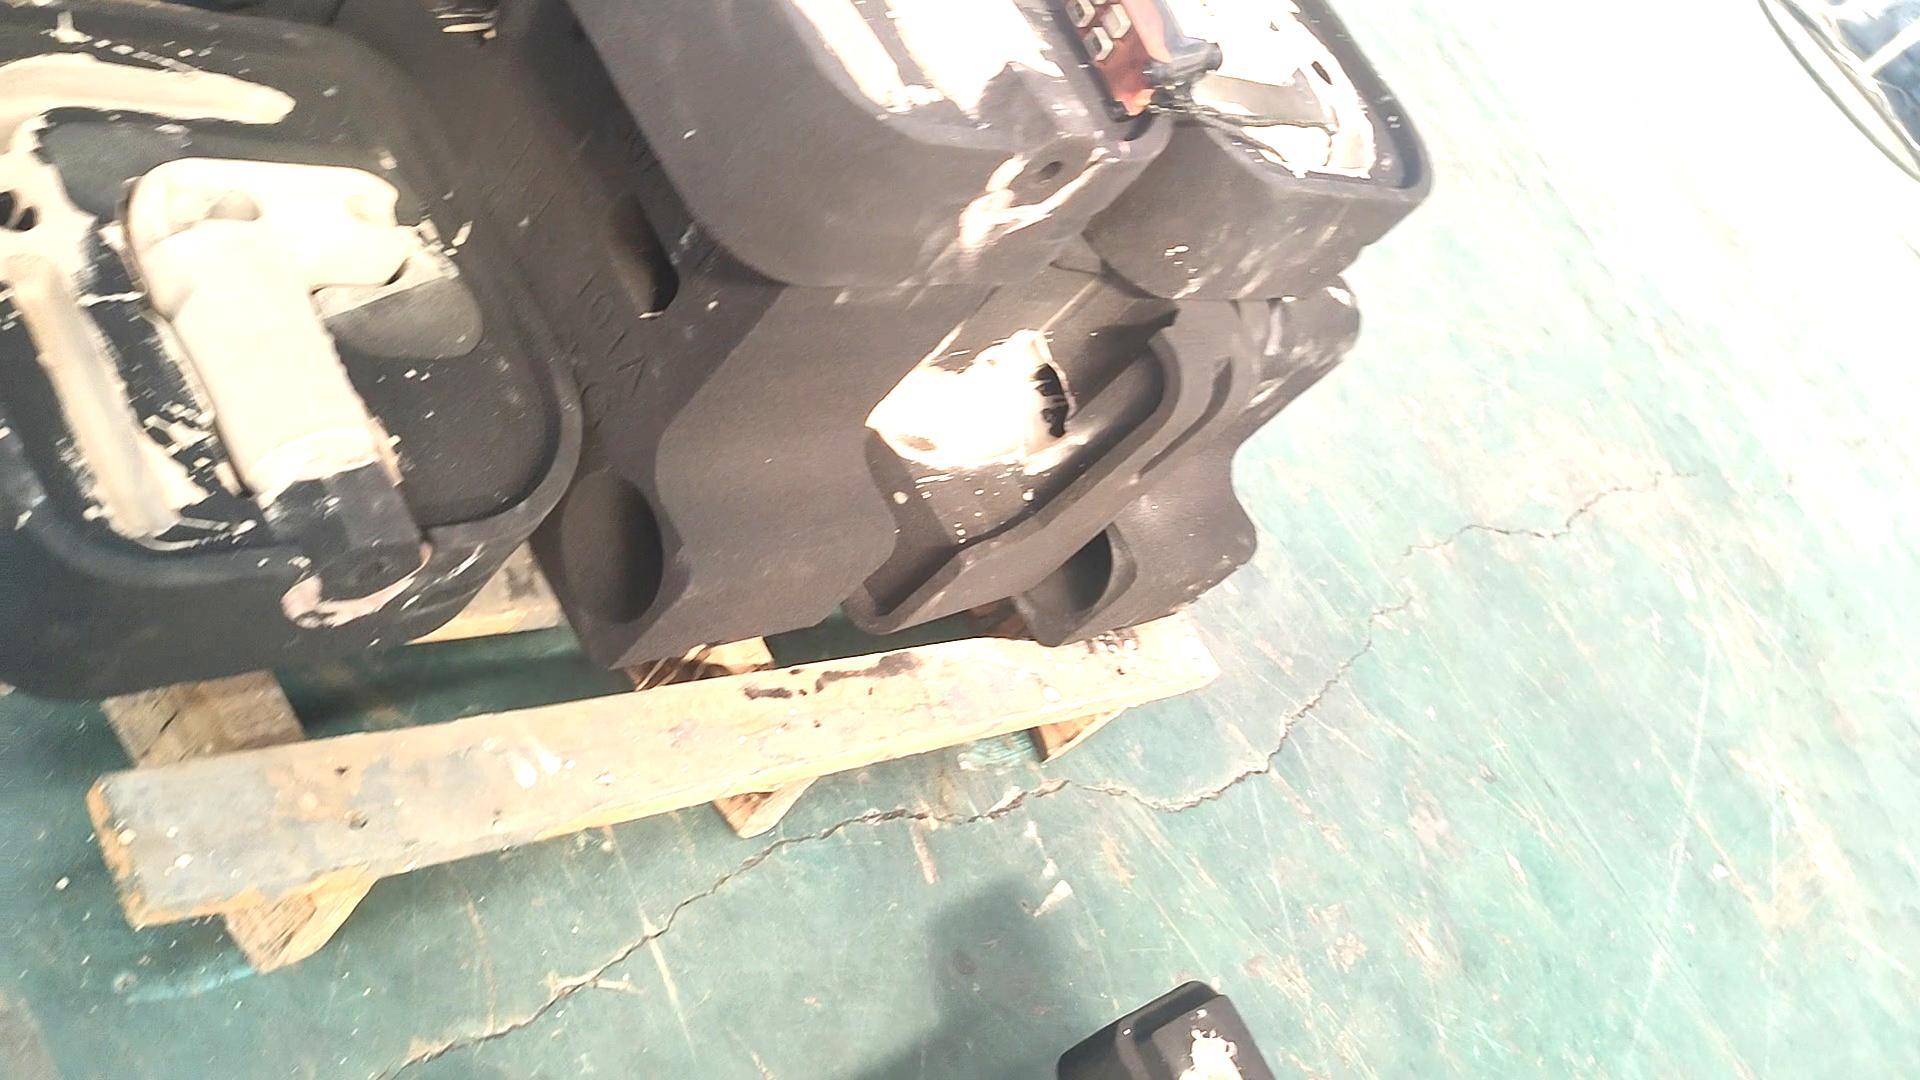pouring hole: (558, 471, 665, 620), (1009, 498, 1113, 620)
